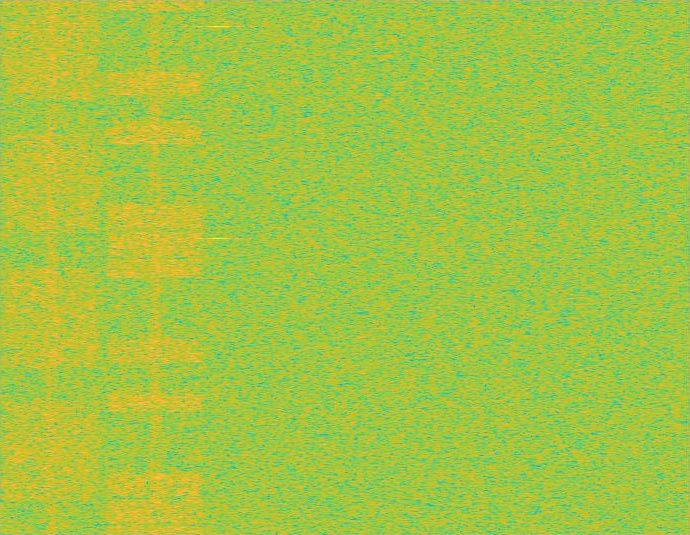5G: (0, 0, 104, 534)
DSSS: (45, 0, 59, 534), (148, 0, 162, 534)
LTE: (104, 0, 207, 534)
Radar: (212, 0, 226, 534)
